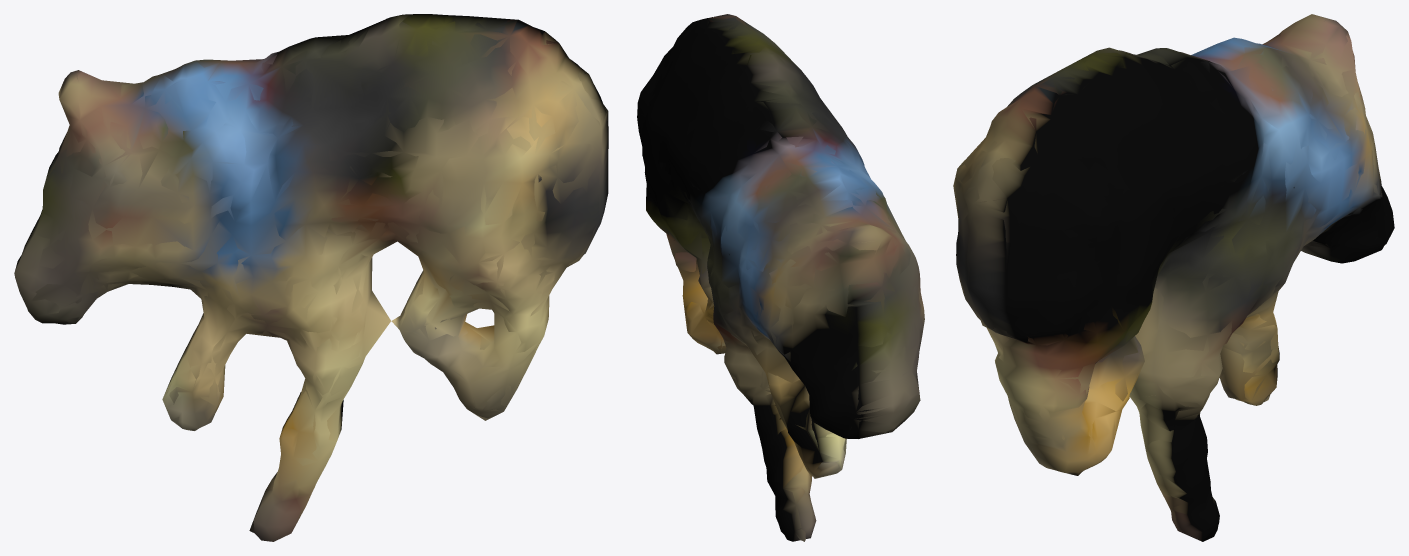
File: attack_dog.glb
3 renders of one model, left to right at view 1: azimuth 30°, elevation 25°; view 2: azimuth 150°, elevation 25°; view 3: azimuth 270°, elevation 25°, orthographic. The views are drawn at different scales.
Visible parts, largest first — view 1: allied_attack_dog; view 2: allied_attack_dog; view 3: allied_attack_dog.
Boxes of the visible parts, left/top/right/bottom form: allied_attack_dog: left=14, top=14, right=608, bottom=541; allied_attack_dog: left=637, top=14, right=924, bottom=541; allied_attack_dog: left=953, top=14, right=1394, bottom=541.
Size of the model in its own units: 1.7 by 1.95 by 1.47.
